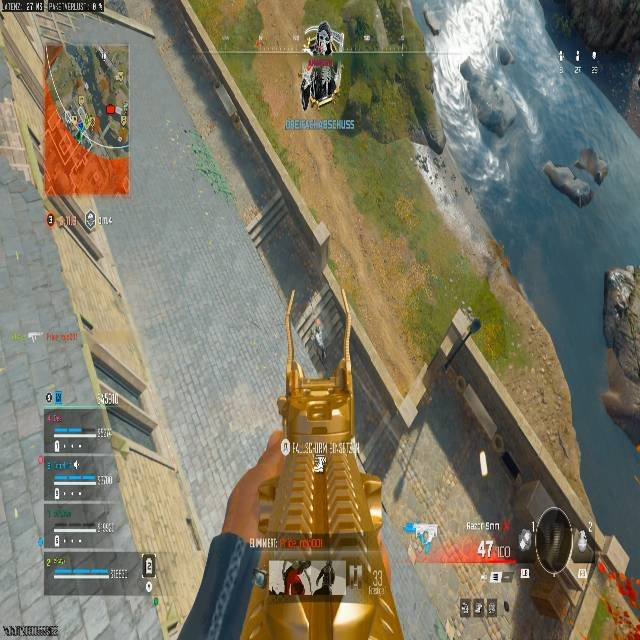head: (318, 21, 330, 32)
player: (542, 148, 609, 208), (299, 21, 341, 109)
